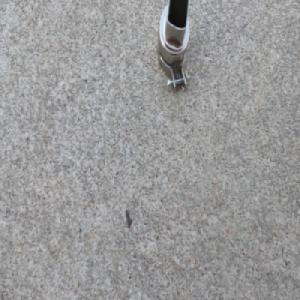MetalPart: (155, 0, 192, 95)
